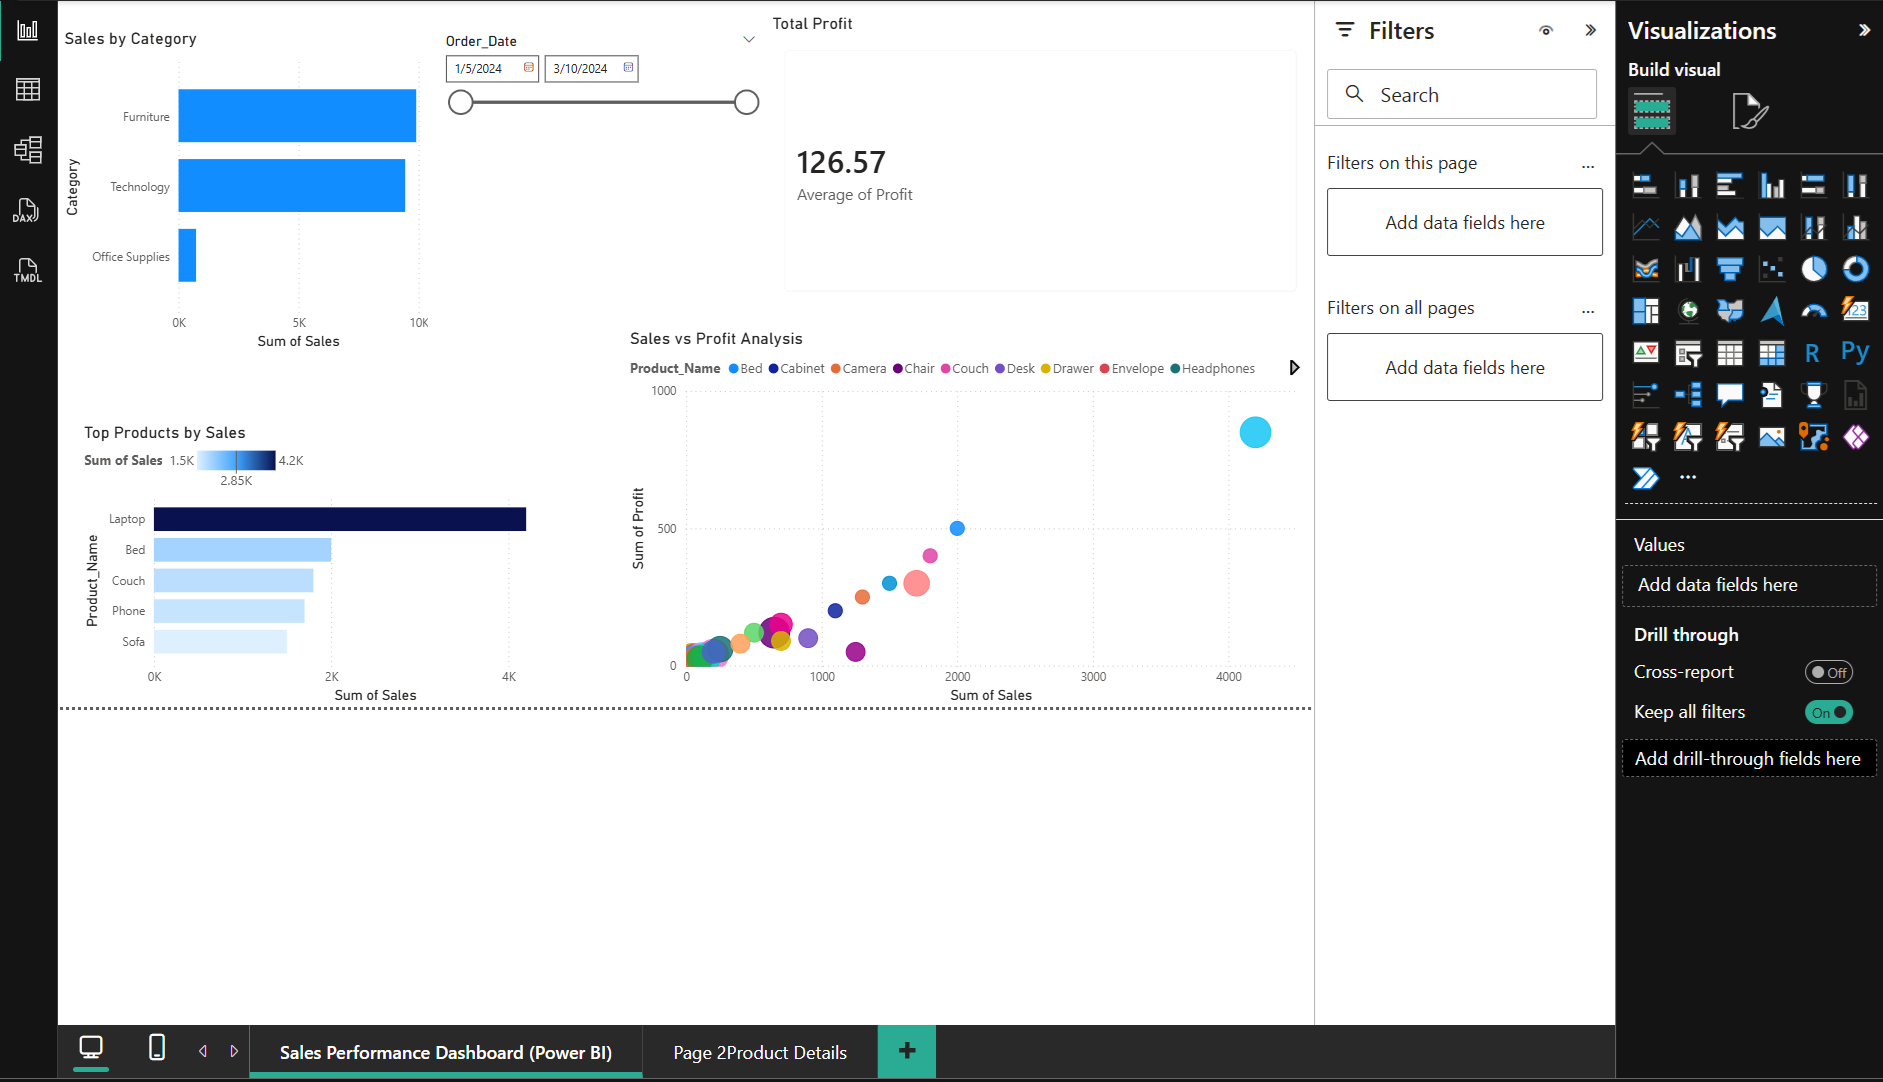

This screenshot's page, from the dashboard's own definition file:
{"tool":"powerbi","page":{"name":"Sales Performance Dashboard (Power BI)","canvas":[1280,720],"ordinal":0},"visuals":[{"type":"slicer","fields":{"Values":["Sheet1.Order_Date"]},"box":[382.2,27.5,340.9,253.8],"z":0},{"type":"clusteredBarChart","title":"Sales by Category","fields":{"Category":["Sheet1.Category"],"Y":["Sum(Sheet1.Sales)"]},"box":[1.5,27.5,380.6,331.7],"z":1},{"type":"scatterChart","title":" Sales vs Profit Analysis","fields":{"X":["Sum(Sheet1.Sales)"],"Y":["Sum(Sheet1.Profit)"],"Size":["Sum(Sheet1.Quantity)"],"Series":["Sheet1.Product_Name"]},"box":[577.8,333.3,701.7,386.8],"z":2},{"type":"cardVisual","title":"Total Profit","fields":{"Data":["Avg(Sheet1.Profit)"]},"box":[723.1,12.2,556.4,301.1],"z":3},{"type":"barChart","title":"Top Products by Sales","fields":{"Y":["Sum(Sheet1.Sales)"],"Category":["Sheet1.Product_Name"]},"box":[21.4,429.6,539.6,290.4],"z":4}]}

Visuals, with their boxes on the page's 1280x720 design canvas (x1, y1, x2, y2). These are canvas units, not pixel positions in the 1883x1082 screenshot, which may show the page scaled, cropped or inside an application window:
slicer - Sheet1.Order_Date: {"x1": 382, "y1": 28, "x2": 723, "y2": 281}
"Sales by Category" clusteredBarChart: {"x1": 2, "y1": 28, "x2": 382, "y2": 359}
" Sales vs Profit Analysis" scatterChart: {"x1": 578, "y1": 333, "x2": 1280, "y2": 720}
"Total Profit" cardVisual: {"x1": 723, "y1": 12, "x2": 1280, "y2": 313}
"Top Products by Sales" barChart: {"x1": 21, "y1": 430, "x2": 561, "y2": 720}
